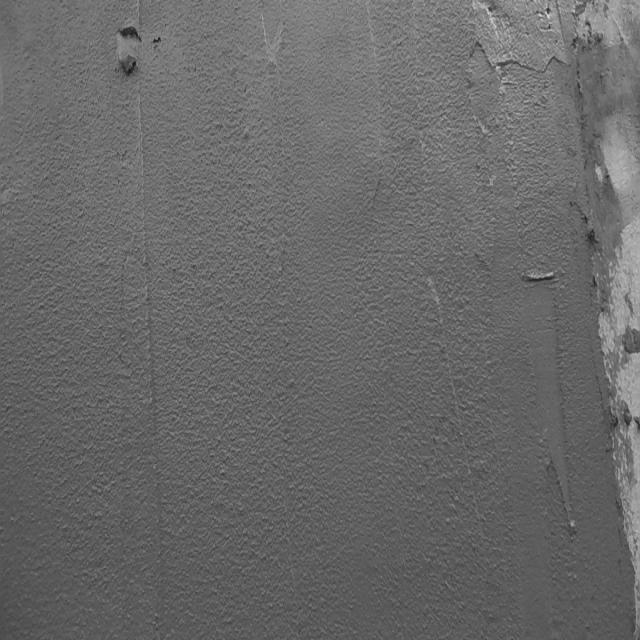trowels marks: (133, 95, 165, 625), (114, 18, 144, 76)
